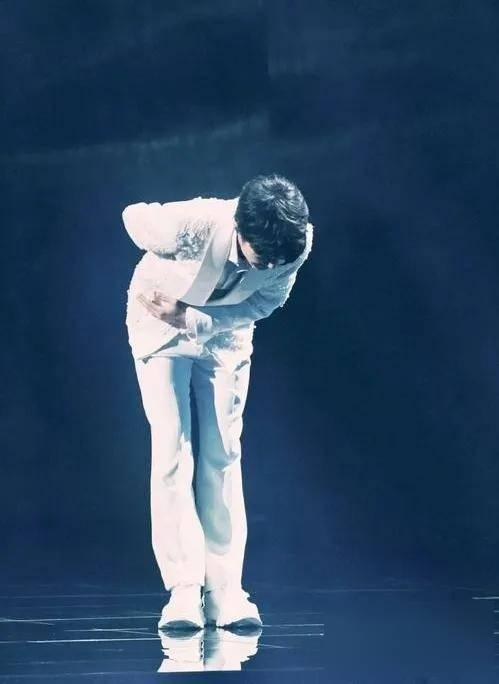bending: (113, 166, 310, 654)
